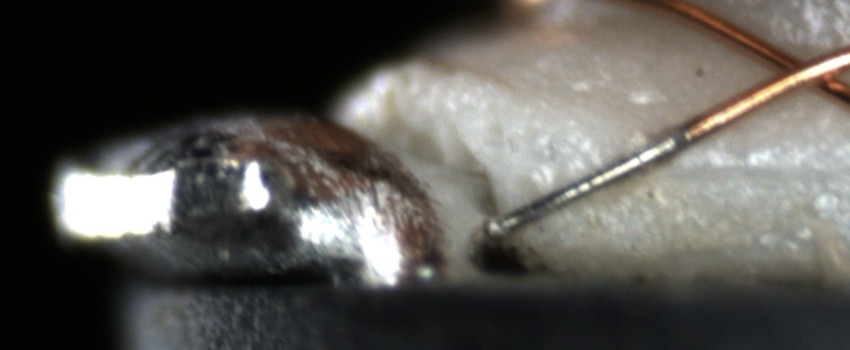CL: (750, 41, 846, 103)
DL: (633, 142, 850, 206)
TS: (493, 128, 690, 230)
